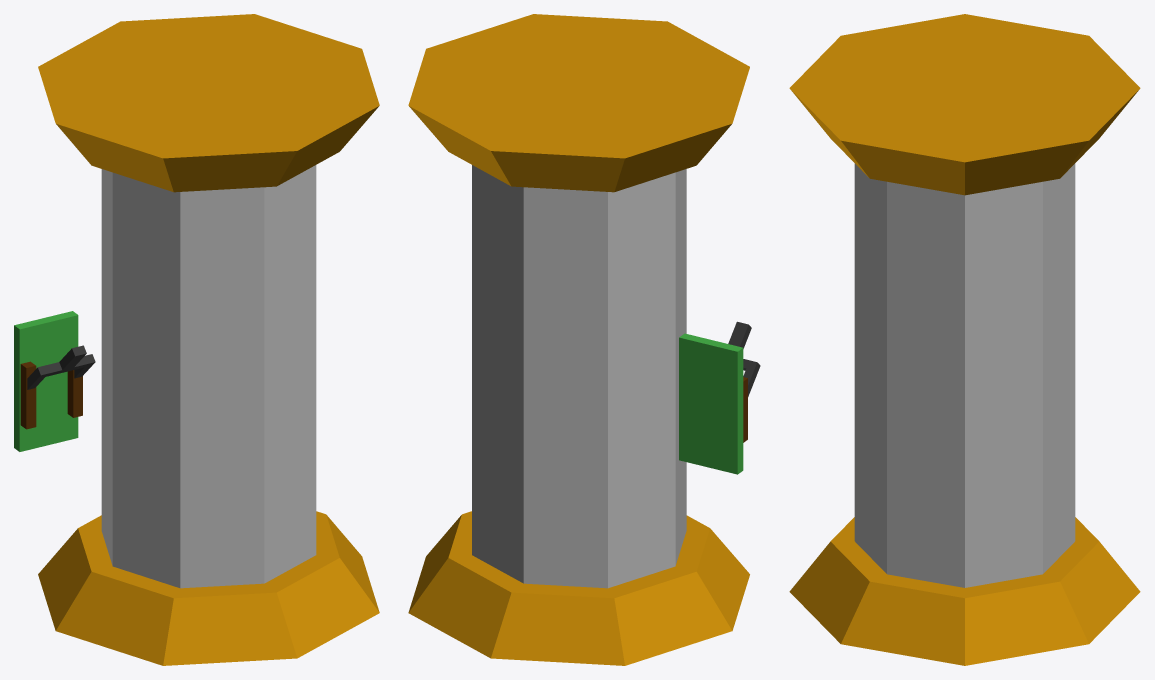
The model's file is INVISIBLE_ZCTRIGGERTELEPORT.OBJ.
3 views of the same model, side by side, from view 1: azimuth 30°, elevation 25°; view 2: azimuth 150°, elevation 25°; view 3: azimuth 270°, elevation 25° (orthographic).
Parts seen in each view (by area): view 1: INVISIBLE_ZCTRIGGERTELEPORT; view 2: INVISIBLE_ZCTRIGGERTELEPORT; view 3: INVISIBLE_ZCTRIGGERTELEPORT.
Part boxes in pixels (x1=…): INVISIBLE_ZCTRIGGERTELEPORT: x1=14, y1=14, x2=379, y2=665; INVISIBLE_ZCTRIGGERTELEPORT: x1=408, y1=14, x2=760, y2=665; INVISIBLE_ZCTRIGGERTELEPORT: x1=789, y1=14, x2=1140, y2=665.
Bounding box in the file's own units: 0.6802 × 1 × 0.632.
